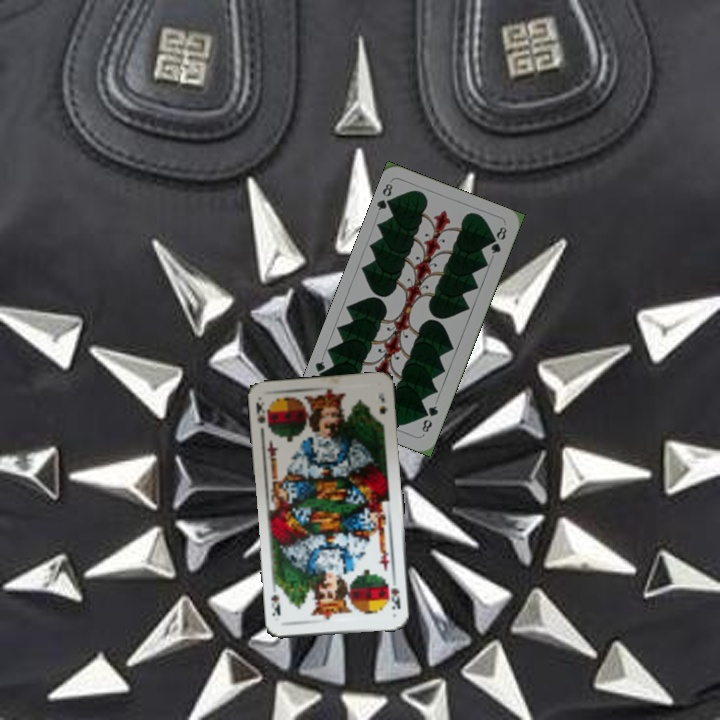G8: (373, 179, 397, 213), (418, 401, 441, 435)
SK: (251, 398, 268, 426), (387, 583, 403, 612)
